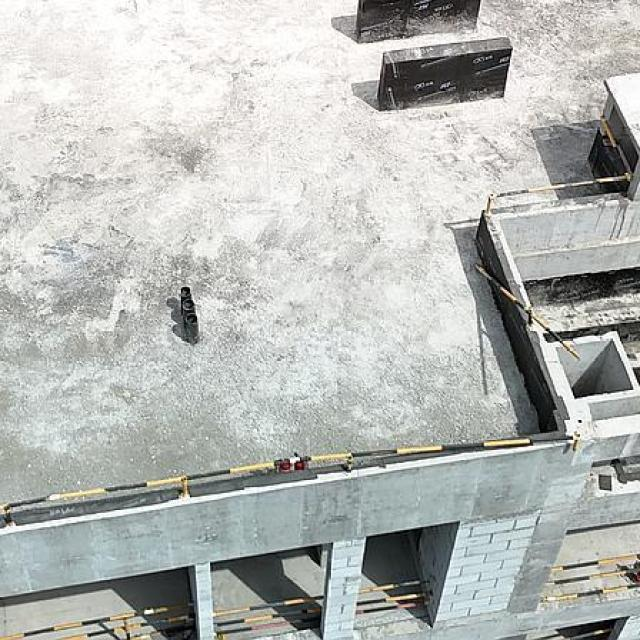edge_guardrail: (0, 433, 583, 526), (485, 114, 635, 216), (474, 263, 582, 361), (0, 598, 196, 640), (538, 553, 640, 603), (211, 594, 328, 636), (355, 579, 435, 614), (563, 627, 613, 640)
